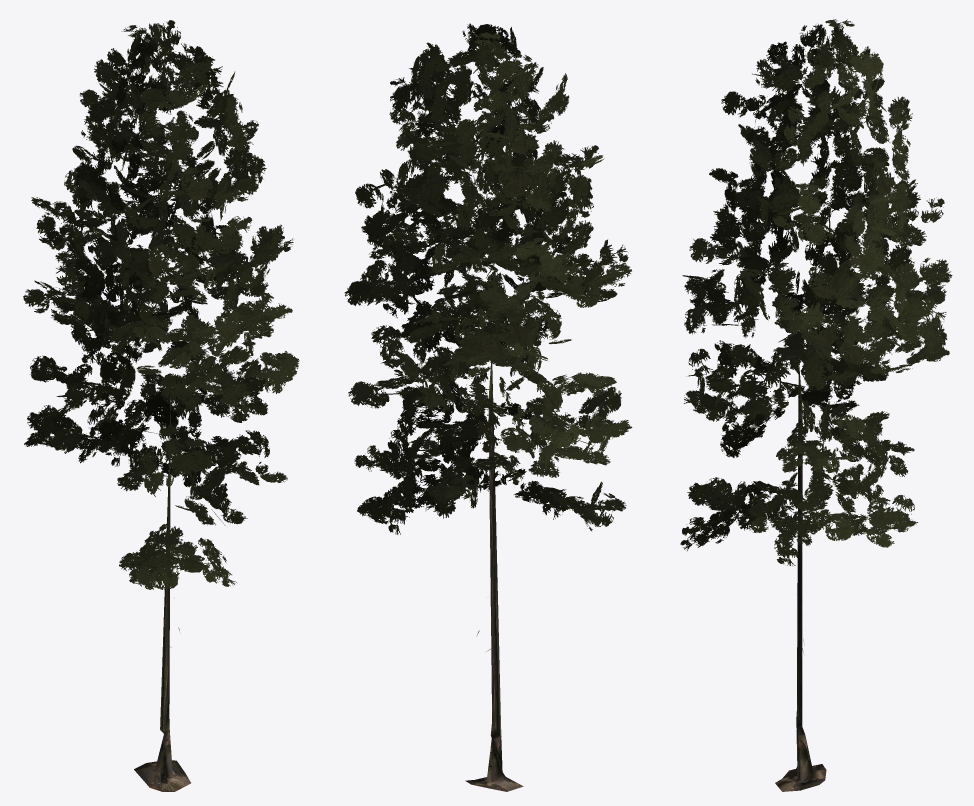
File: fir_a.glb
3 views of the same model, side by side, from view 1: azimuth 30°, elevation 25°; view 2: azimuth 150°, elevation 25°; view 3: azimuth 270°, elevation 25° (orthographic). The views are drawn at different scales.
Visible parts, largest first — view 1: cards, fir_tree_01_trunk_a; view 2: cards, fir_tree_01_trunk_a; view 3: cards, fir_tree_01_trunk_a.
Boxes of the visible parts, left/top/right/bottom form: cards: left=23, top=20, right=299, bottom=589; fir_tree_01_trunk_a: left=134, top=364, right=190, bottom=791; cards: left=344, top=23, right=632, bottom=534; fir_tree_01_trunk_a: left=465, top=360, right=523, bottom=791; cards: left=680, top=19, right=952, bottom=565; fir_tree_01_trunk_a: left=775, top=358, right=826, bottom=791.
Size of the model in its own units: 7.06 by 18.87 by 6.52.
Materials: 3 (3 with a texture image).
